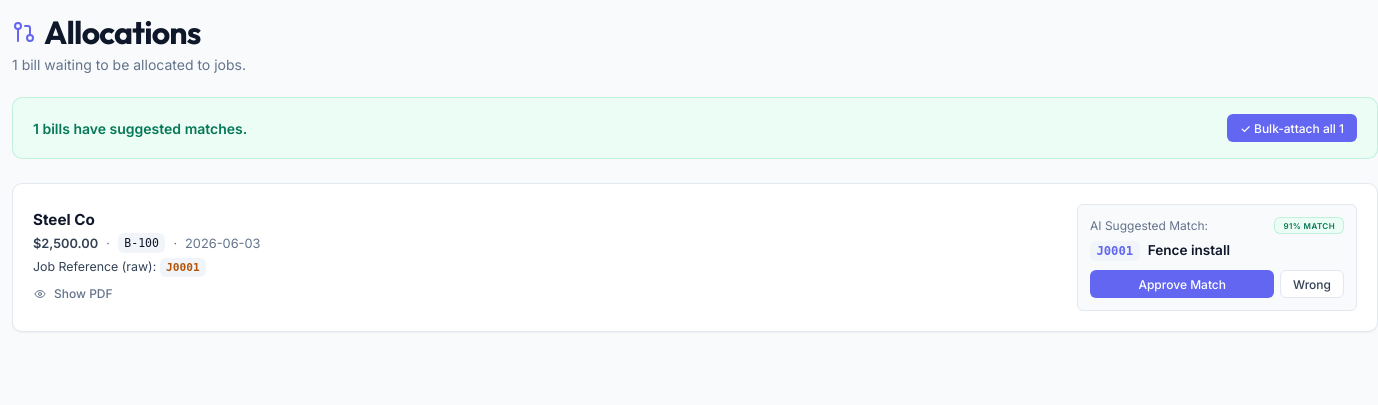
Test: AllocationsPage › surfaces a categorized action error when a suggestion write fails instead of failing silently
The image size is (1378, 405).
Click the button "Wrong" at (1312, 284), box [1280,270,1344,298]
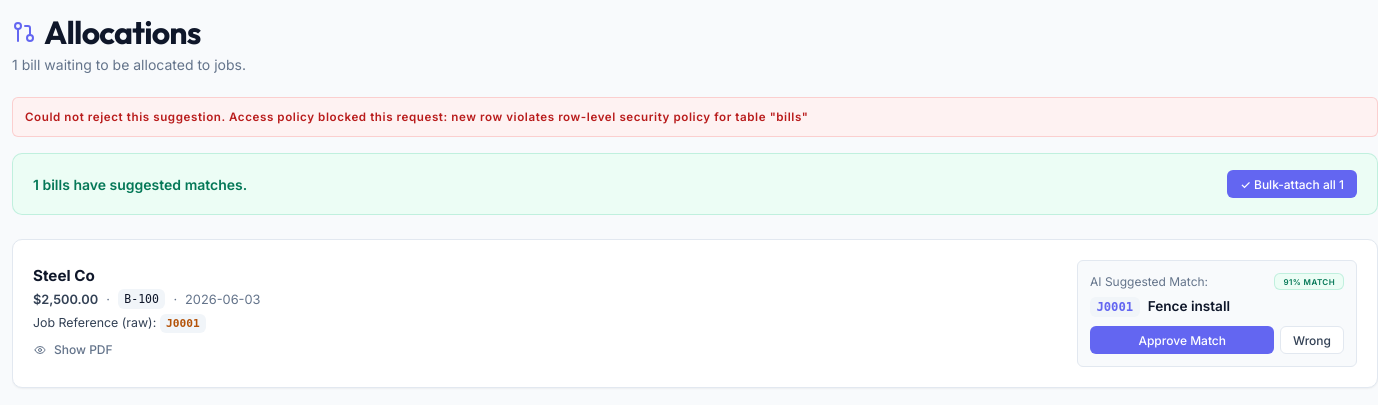
Now the text "Could not reject this suggestion. Access policy blocked this request" is shown, box [25,110,808,124]
